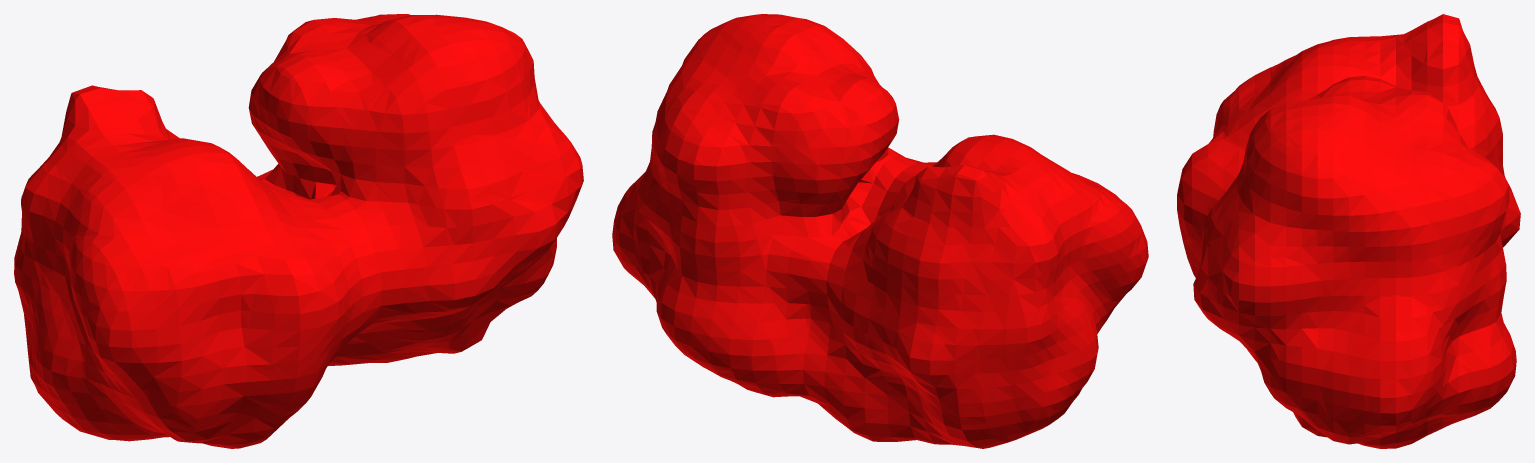
The model's file is rsmC_coarse.dae.
3 renders of one model, left to right at view 1: azimuth 30°, elevation 25°; view 2: azimuth 150°, elevation 25°; view 3: azimuth 270°, elevation 25°, orthographic. The views are drawn at different scales.
Parts seen in each view (by area): view 1: rsmC; view 2: rsmC; view 3: rsmC.
Boxes of the visible parts, box(x1,y1,x2,y2) form: rsmC: box(14, 14, 583, 448); rsmC: box(612, 14, 1148, 448); rsmC: box(1177, 14, 1520, 448).
Bounding box in the file's own units: 68.99 × 49.1 × 41.38.
